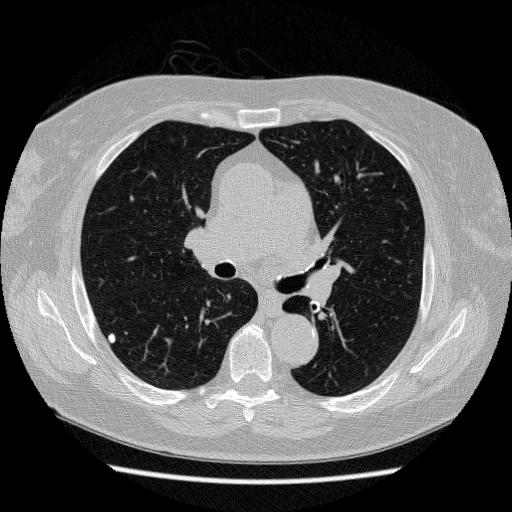nodule: (104, 331, 118, 345)
